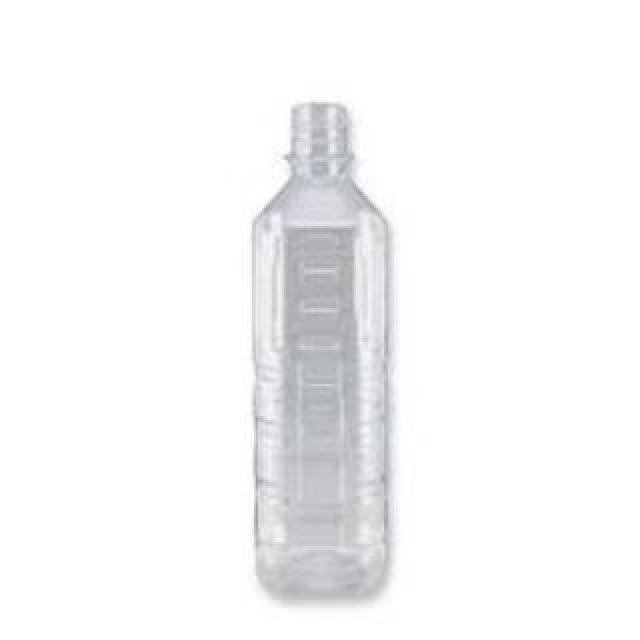Pet_Bottle: (242, 99, 394, 611)
